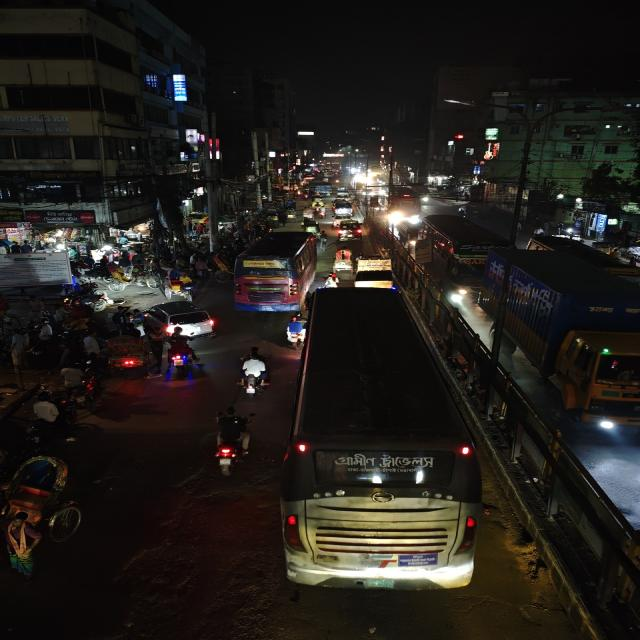bicycle: (236, 345, 270, 397)
bus: (280, 292, 477, 590), (421, 212, 504, 310), (231, 229, 321, 315)
car: (140, 299, 219, 341), (333, 220, 367, 242)
cng: (102, 334, 152, 377), (301, 220, 320, 232)
motorcycle: (209, 408, 258, 476), (23, 398, 82, 448), (56, 362, 106, 408), (235, 346, 272, 398), (161, 334, 202, 380), (70, 283, 112, 311), (284, 312, 306, 348)
pedestrian: (79, 331, 102, 357)
pickup_van: (353, 252, 398, 291)
rickshaw: (0, 446, 90, 578), (154, 266, 197, 300), (332, 243, 355, 271)
truck: (499, 243, 640, 437)
